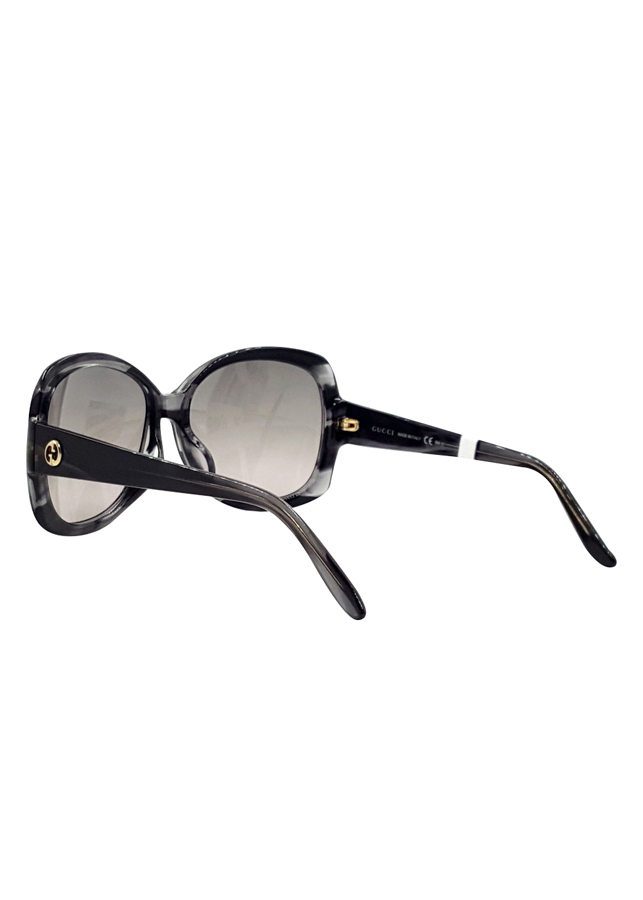Gucci: (40, 432, 69, 471), (368, 421, 400, 442)
